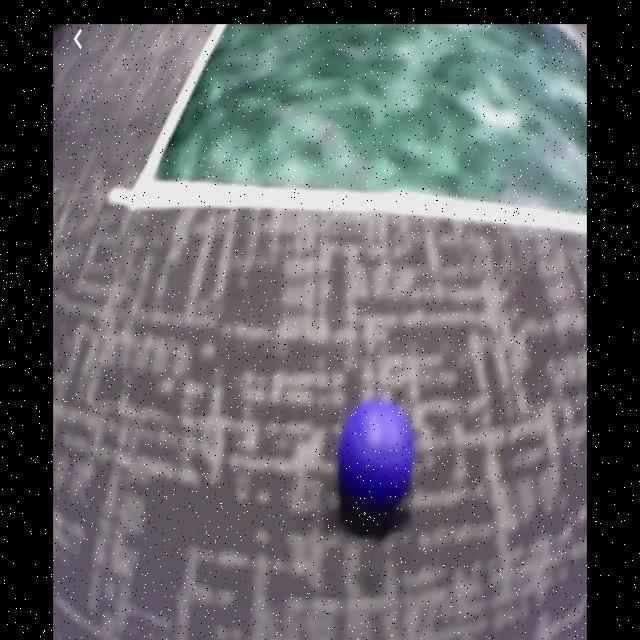ball: (339, 402, 414, 519)
